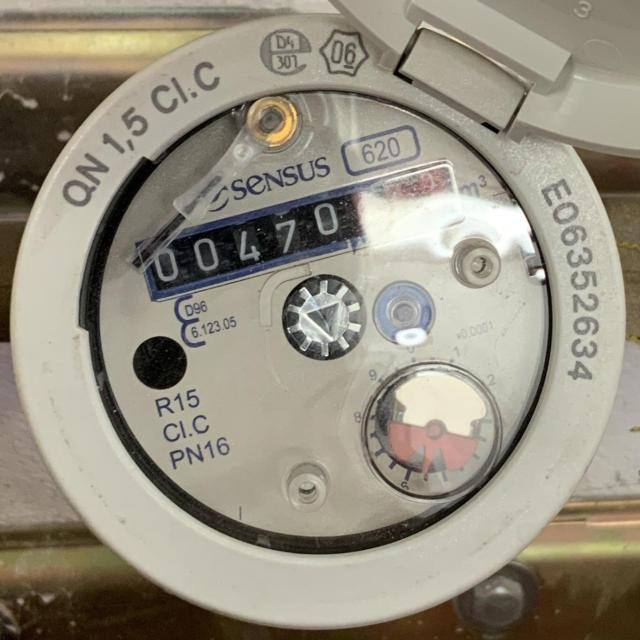gaz_meter: (15, 26, 629, 635)
indication: (133, 159, 465, 307)
